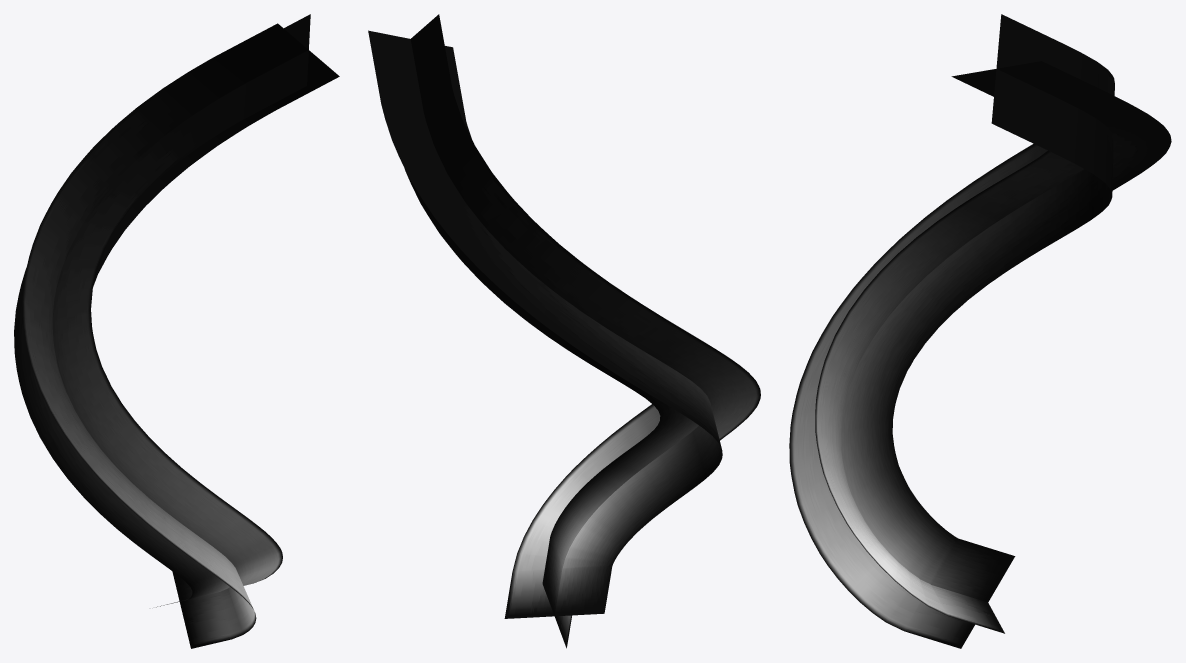
Rendered from 0399_qiliu_M.glb.
3 views of the same model, side by side, from view 1: azimuth 30°, elevation 25°; view 2: azimuth 150°, elevation 25°; view 3: azimuth 270°, elevation 25° (orthographic). The views are drawn at different scales.
Bounding box in the file's own units: 1.25 × 2.2 × 1.1.
Materials: 1 (1 with a texture image).
